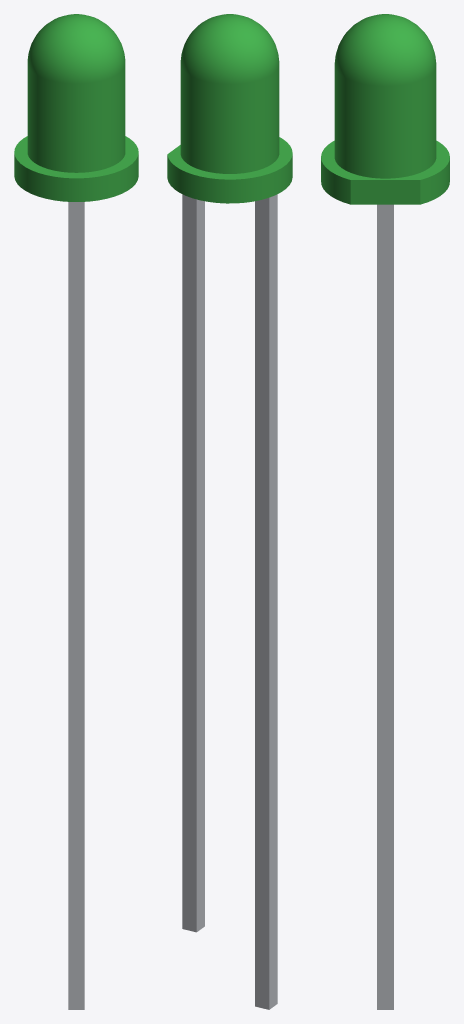
File: led-3mm.glb
3 renders of one model, left to right at view 1: azimuth 90°, elevation 25°; view 2: azimuth 150°, elevation 25°; view 3: azimuth 270°, elevation 25°, orthographic. The views are drawn at different scales.
Visible parts, largest first — view 1: body, lead-1; view 2: body, lead-1, lead-2; view 3: body, lead-2, lead-1.
Part boxes in pixels (x1=…): body: x1=14, y1=14, x2=138, y2=201; lead-1: x1=68, y1=202, x2=84, y2=1009; body: x1=167, y1=14, x2=292, y2=203; lead-1: x1=255, y1=194, x2=277, y2=1009; lead-2: x1=182, y1=194, x2=204, y2=932; body: x1=321, y1=14, x2=449, y2=204; lead-2: x1=377, y1=204, x2=393, y2=984; lead-1: x1=377, y1=985, x2=393, y2=1009.
Bounding box in the file's own units: 0.00349 × 0.0327 × 0.0038.
